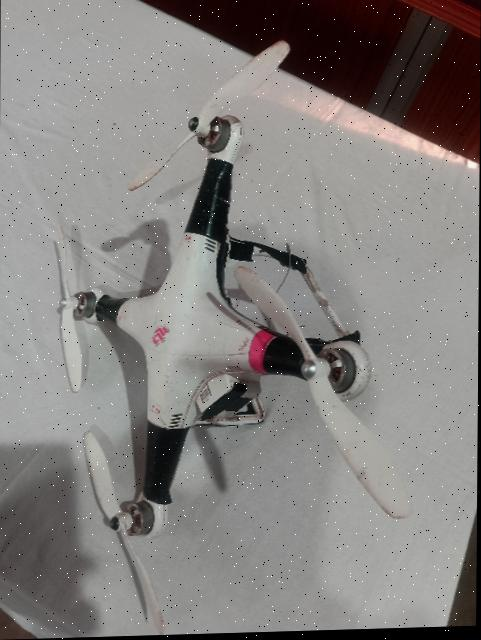drone: (27, 57, 389, 573)
